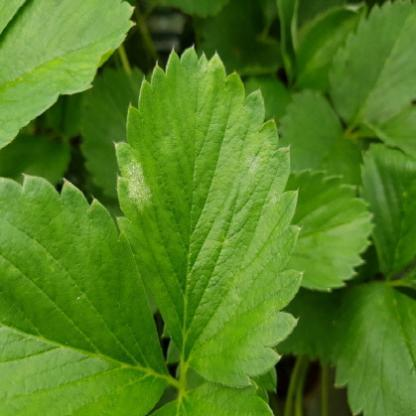Strawberry_Powdery_Mildew_Leaf: (112, 43, 306, 389)
